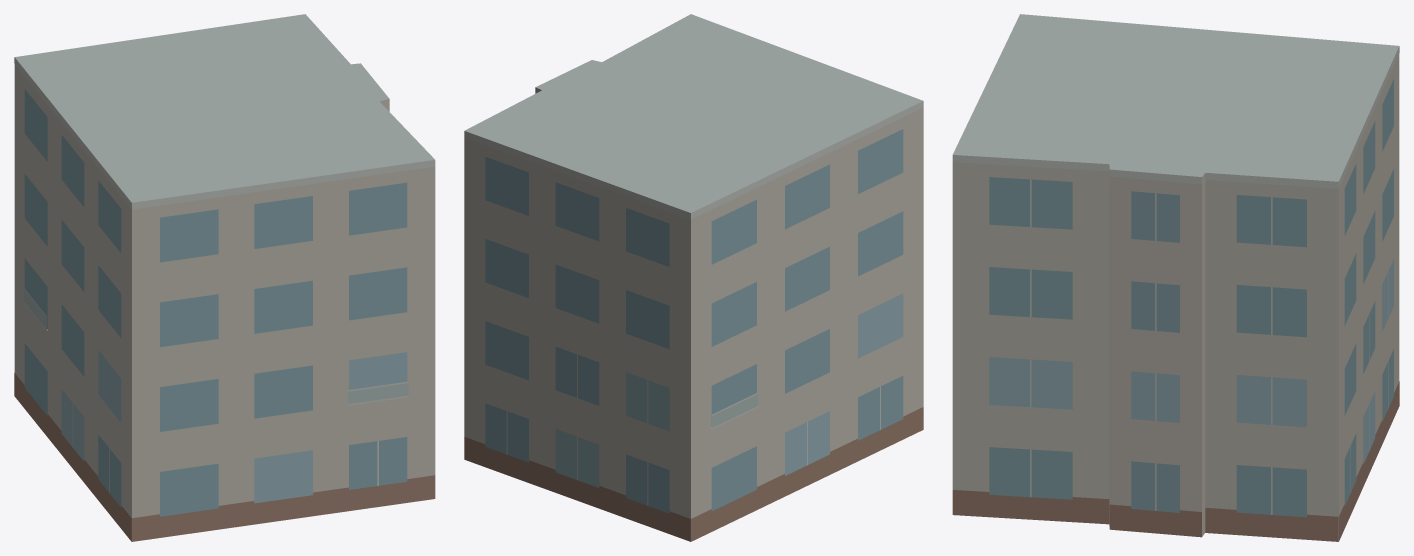
The model's file is survey-upis-32617448.glb.
3 views of the same model, side by side, from view 1: azimuth 30°, elevation 25°; view 2: azimuth 150°, elevation 25°; view 3: azimuth 270°, elevation 25° (orthographic). The views are drawn at different scales.
Visible parts, largest first — view 1: survey-upis-32617448.tmp; view 2: survey-upis-32617448.tmp; view 3: survey-upis-32617448.tmp.
Part boxes in pixels (<box>): survey-upis-32617448.tmp: <box>14,14,435,541</box>; survey-upis-32617448.tmp: <box>464,14,923,541</box>; survey-upis-32617448.tmp: <box>952,14,1399,541</box>.
Bounding box in the file's own units: 12.3 × 12.3 × 13.85.
